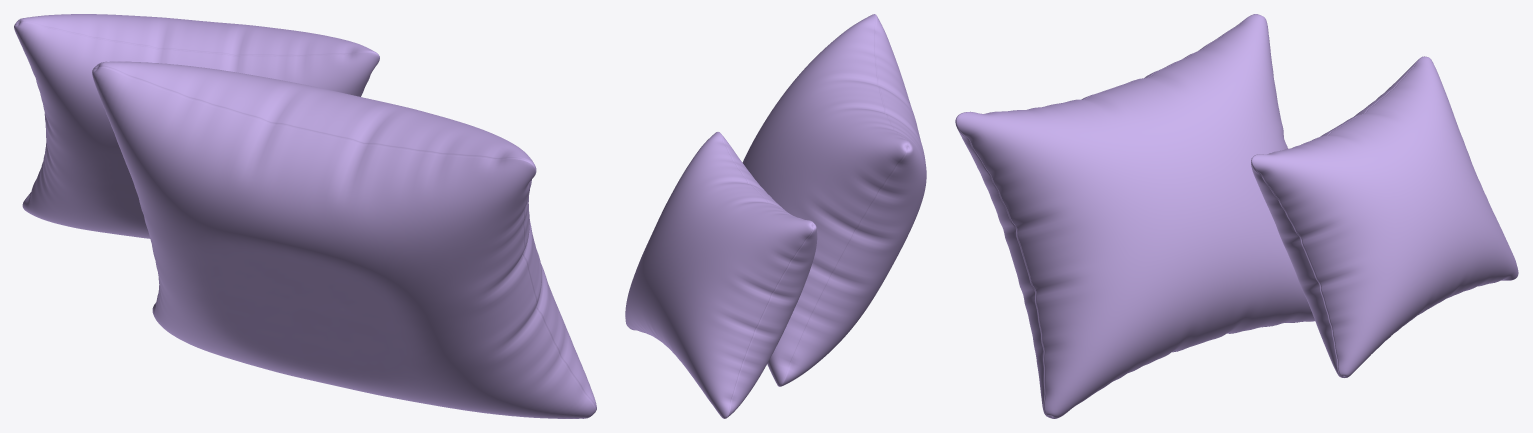
The model's file is pillow.gltf.
3 renders of one model, left to right at view 1: azimuth 30°, elevation 25°; view 2: azimuth 150°, elevation 25°; view 3: azimuth 270°, elevation 25°, orthographic. The views are drawn at different scales.
Parts seen in each view (by area): view 1: Grid; view 2: Grid; view 3: Grid.
Part boxes in pixels (x1,y1,x2,y2): Grid: [14, 14, 596, 418]; Grid: [625, 14, 926, 418]; Grid: [955, 14, 1518, 418].
Size of the model in its own units: 1.47 by 1.3 by 2.46.
